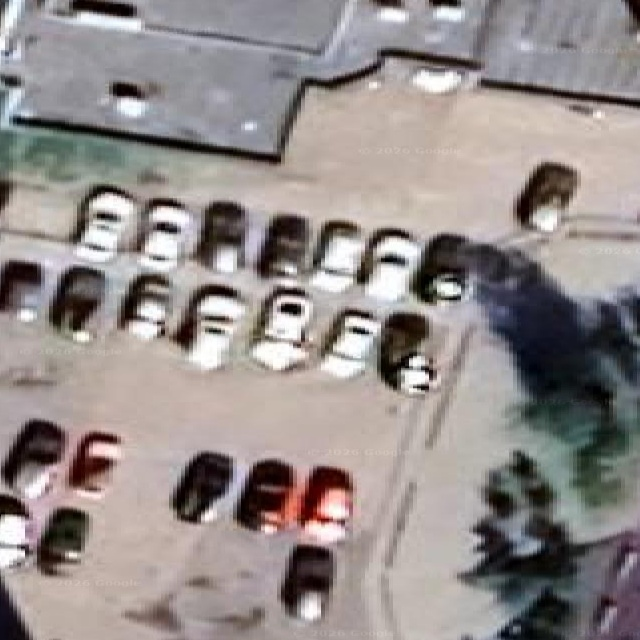car: (178, 285, 245, 370), (378, 312, 439, 394), (2, 420, 66, 498), (251, 289, 312, 370), (515, 162, 578, 232), (75, 189, 135, 262), (236, 459, 295, 533), (49, 266, 105, 343), (172, 452, 233, 522), (281, 544, 335, 622), (361, 230, 419, 301), (299, 466, 352, 543), (320, 310, 380, 378), (413, 233, 471, 303), (310, 221, 364, 292), (139, 203, 192, 272), (258, 214, 310, 283), (68, 432, 121, 497), (199, 201, 246, 273), (37, 507, 88, 573), (120, 274, 170, 340), (0, 261, 42, 322), (0, 495, 30, 569), (396, 353, 439, 394), (412, 66, 463, 94), (429, 272, 468, 303)
